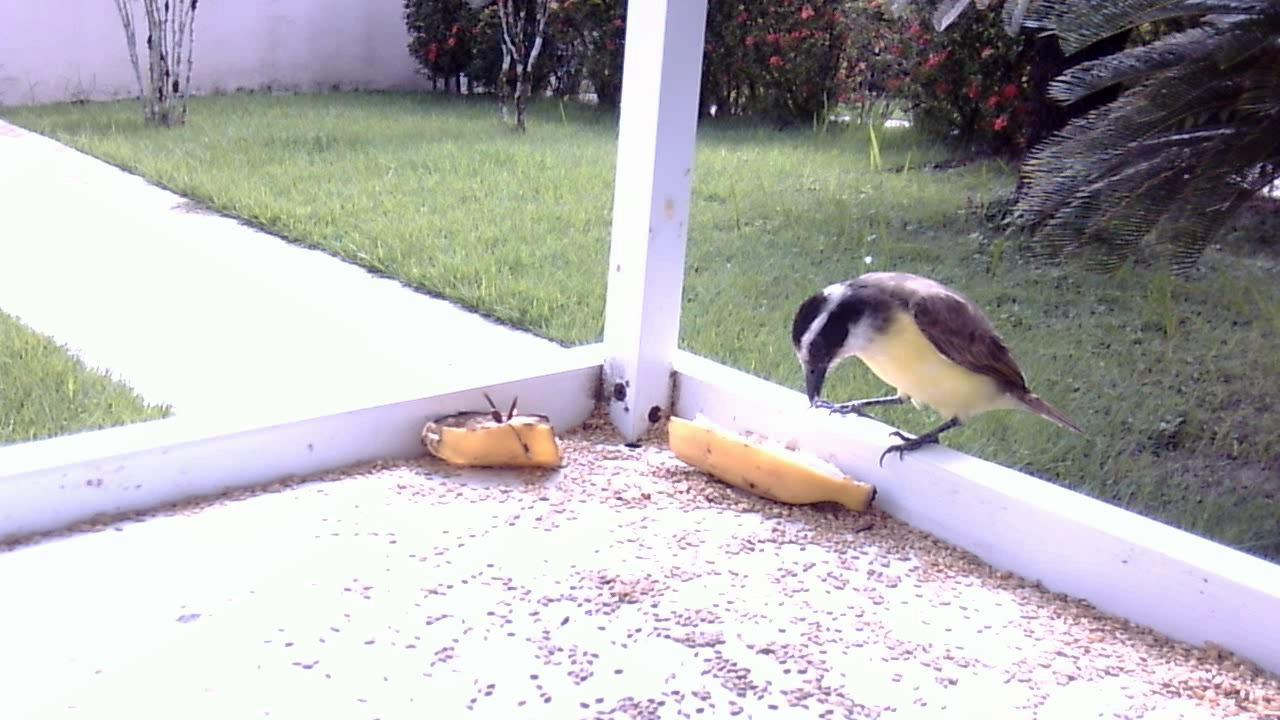bem_te_vi: (782, 255, 1091, 490)
